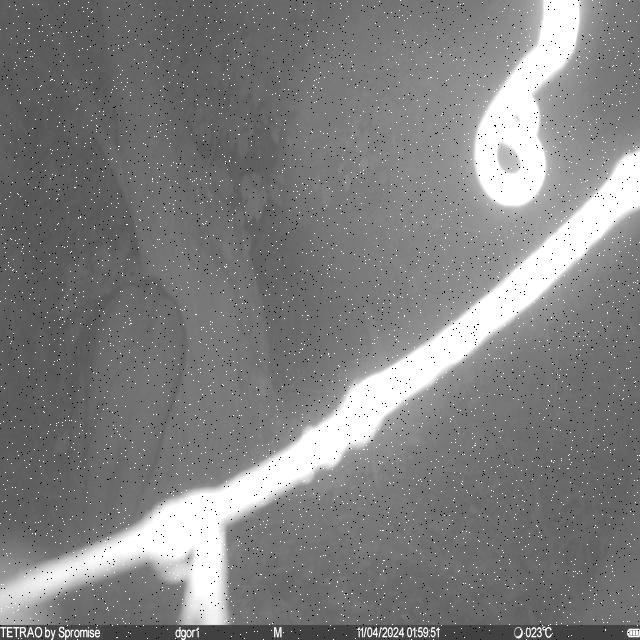calf: (52, 278, 190, 543)
